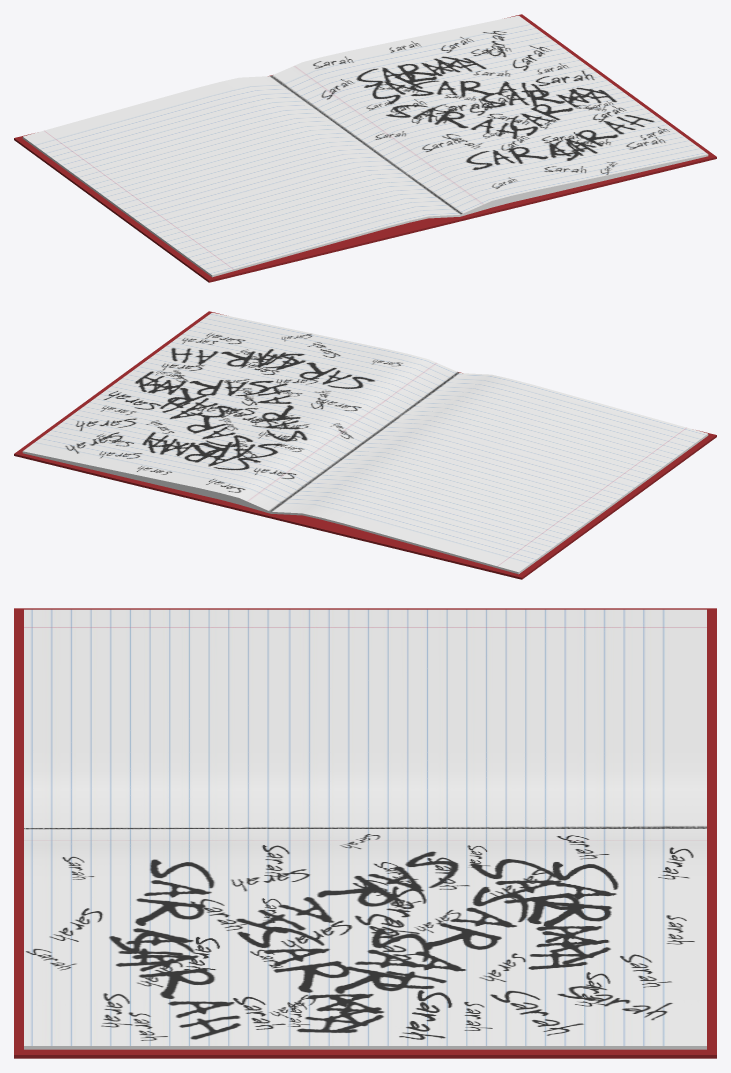
The model's file is Notebook_Second.FBX.
3 renders of one model, top to bottom at view 1: azimuth 30°, elevation 25°; view 2: azimuth 150°, elevation 25°; view 3: azimuth 270°, elevation 25°, orthographic. The views are drawn at different scales.
Parts seen in each view (by area): view 1: Box002; view 2: Box002; view 3: Box002.
Boxes of the visible parts, x1=… form: Box002: x1=14, y1=14, x2=716, y2=282; Box002: x1=14, y1=311, x2=716, y2=579; Box002: x1=14, y1=608, x2=716, y2=1058.
Size of the model in its own units: 17.58 by 0.3486 by 11.69.
Materials: 1 (1 with a texture image).
